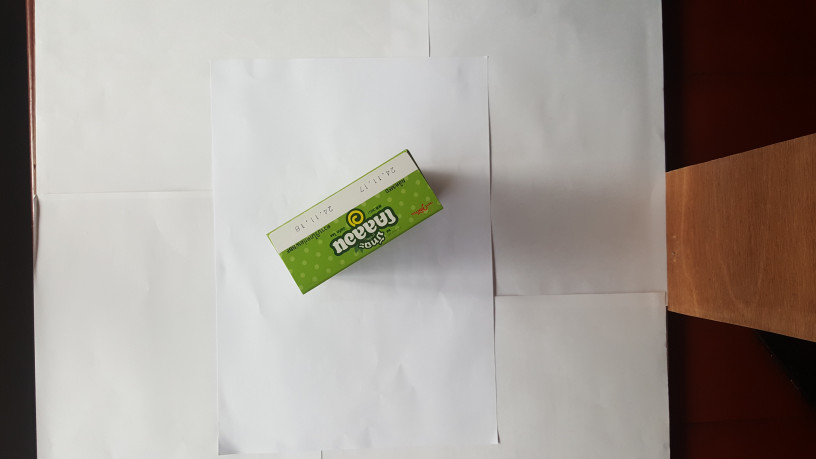collon-matcha: (263, 146, 440, 297)
